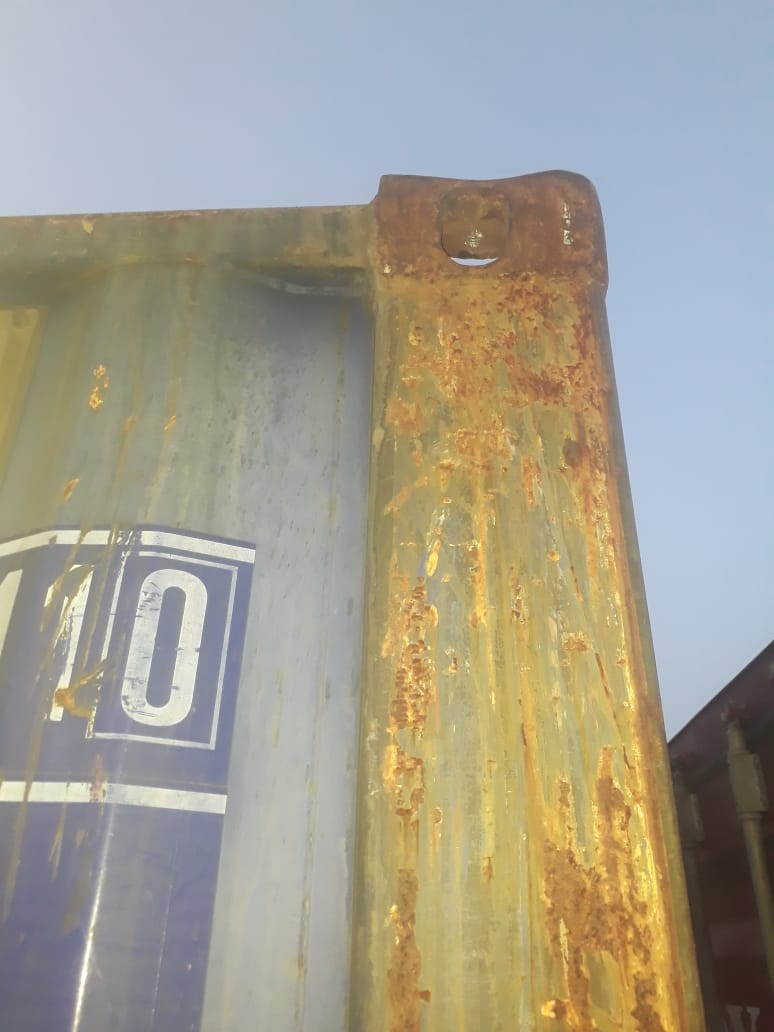minor: (376, 276, 651, 1000)
